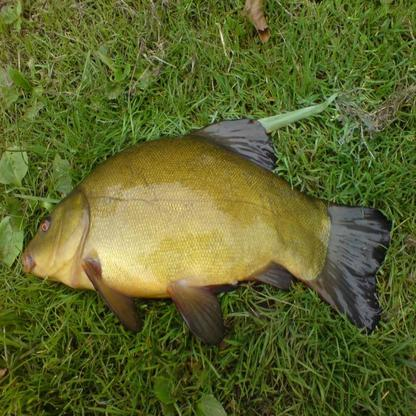fish: (21, 117, 392, 346)
